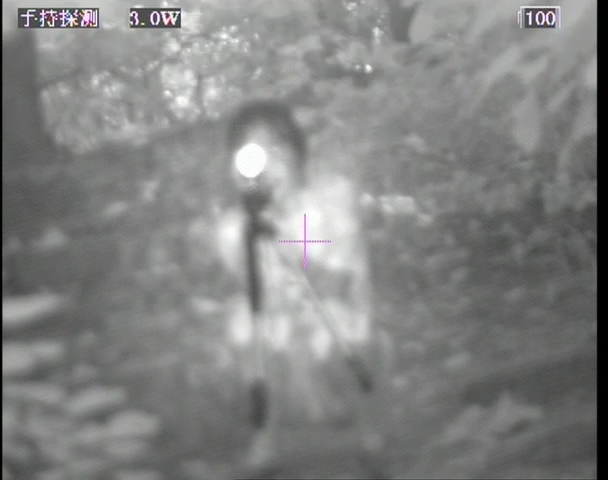my: (231, 139, 271, 177)
